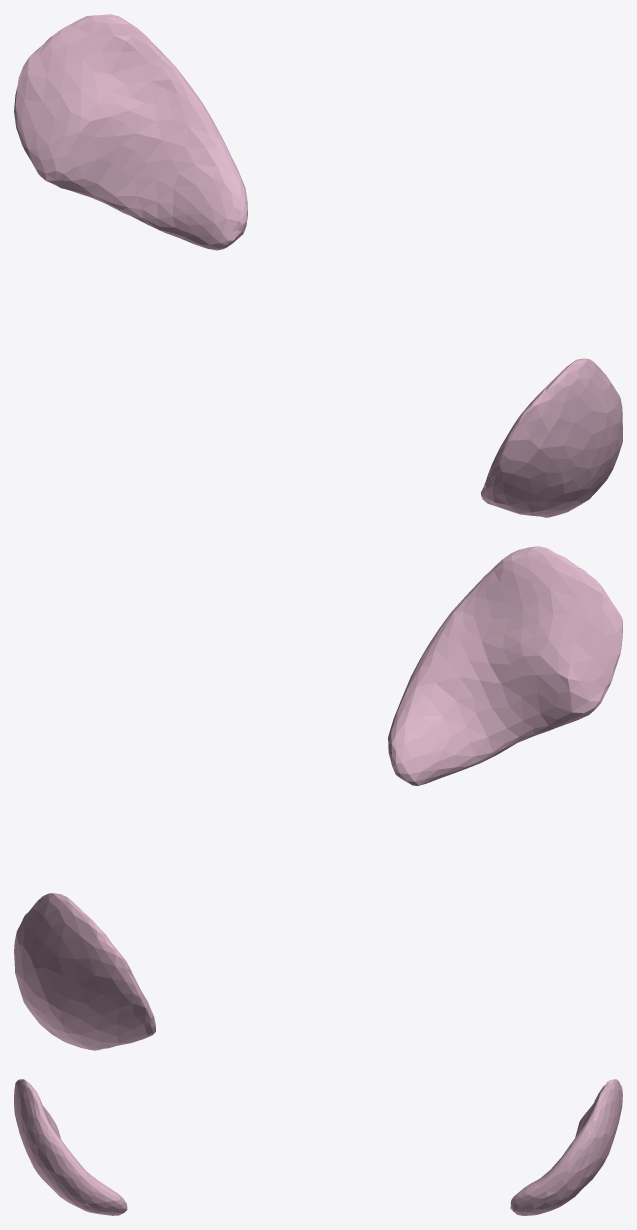
The picture shows the model from 3 angles, top to bottom: view 1: azimuth 30°, elevation 25°; view 2: azimuth 150°, elevation 25°; view 3: azimuth 270°, elevation 25°; orthographic projection. The views are drawn at different scales.
Visible parts, largest first — view 1: 96.obj; view 2: 96.obj; view 3: 96.obj.
Part boxes in pixels (bbox=[...]): 96.obj: bbox=[14, 14, 622, 517]; 96.obj: bbox=[14, 546, 622, 1050]; 96.obj: bbox=[14, 1079, 622, 1215].
Bounding box in the file's own units: 1103 × 1245 × 5677.
